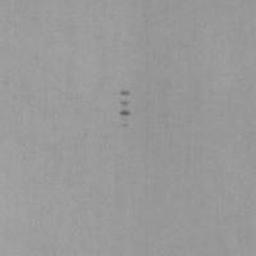Inclusion: (120, 100, 131, 116), (119, 91, 129, 96), (120, 123, 129, 128)
